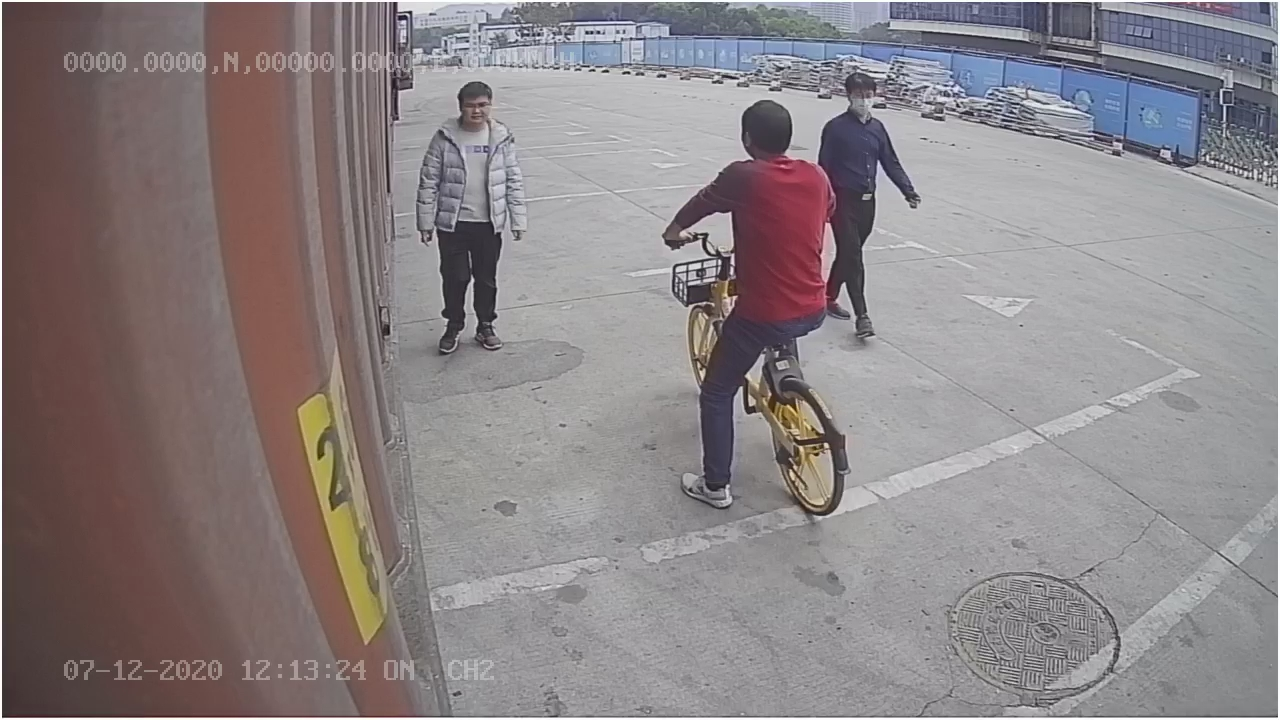person: (419, 80, 530, 358)
